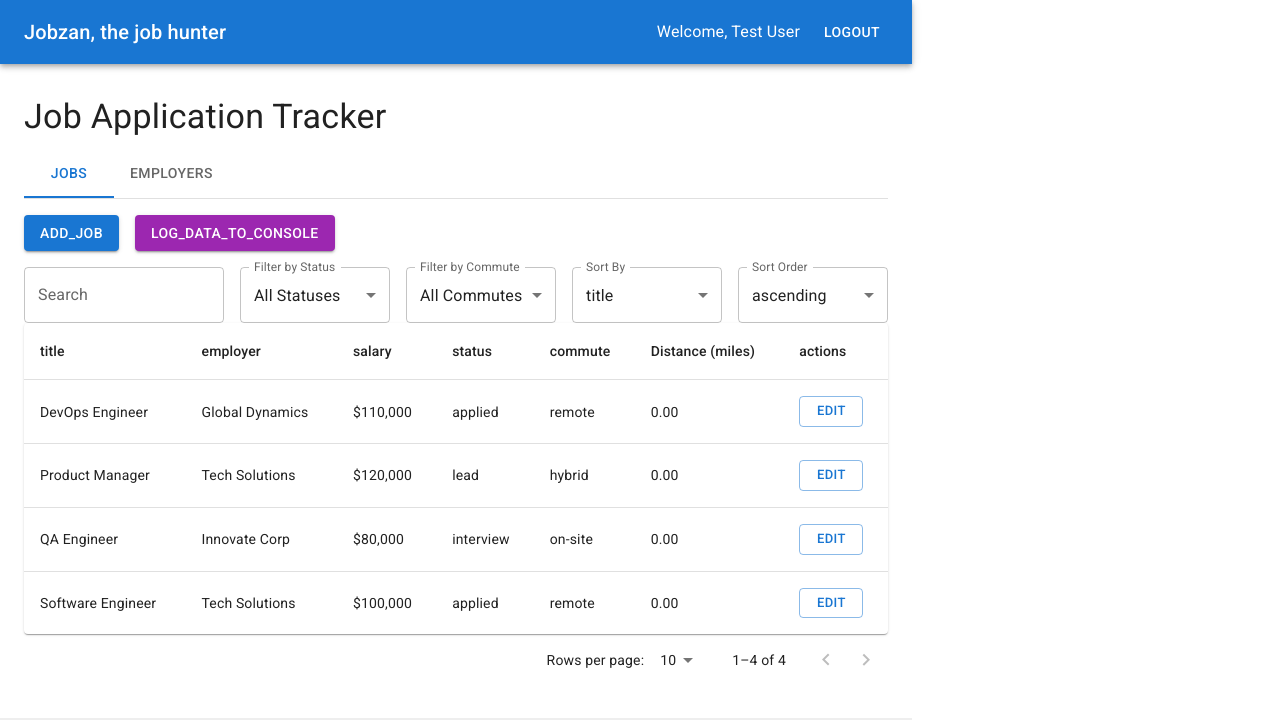
Test: App › searches jobs by title or employer name
Type "Software Engineer" into the field labelled "Search" at [124, 295], box [24,267,224,323]
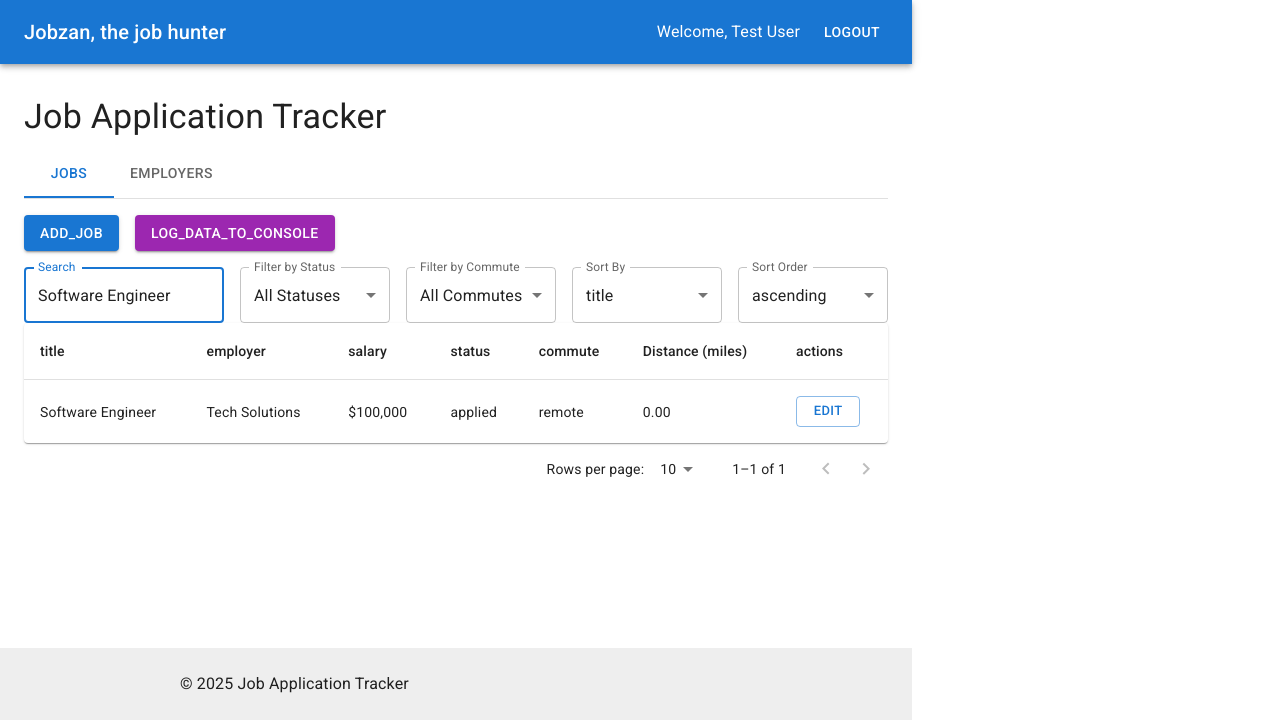
Expected: the column heading "Software Engineer" is shown, [24,380,190,443]
Now the column heading "QA Engineer" is gone
